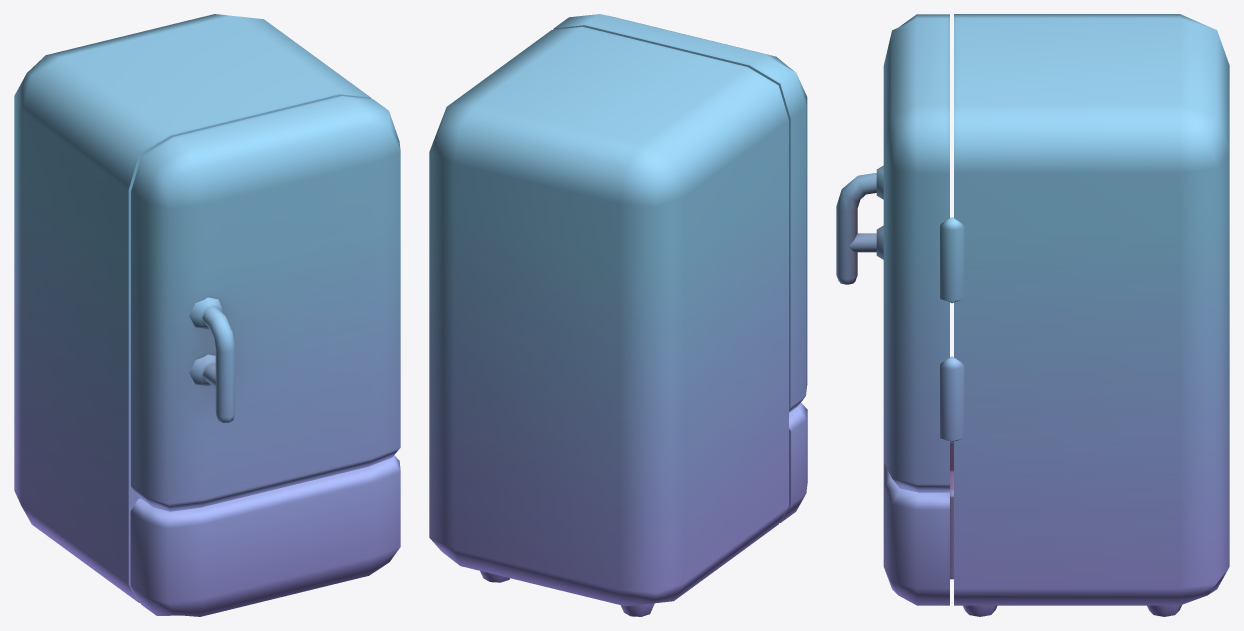
Rendered from fridge_01.fbx.
3 renders of one model, left to right at view 1: azimuth 30°, elevation 25°; view 2: azimuth 150°, elevation 25°; view 3: azimuth 270°, elevation 25°, orthographic. The views are drawn at different scales.
Parts seen in each view (by area): view 1: fridge_01_ready; view 2: fridge_01_ready; view 3: fridge_01_ready.
Boxes of the visible parts, <box> form: fridge_01_ready: <box>14,14,400,616</box>; fridge_01_ready: <box>429,14,807,616</box>; fridge_01_ready: <box>836,14,1229,616</box>.
Size of the model in its own units: 89.11 by 156 by 109.
